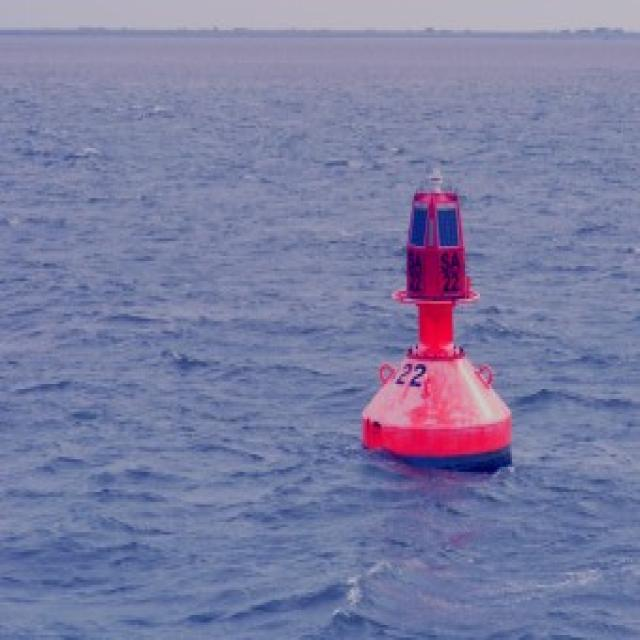marque: (345, 158, 529, 490)
